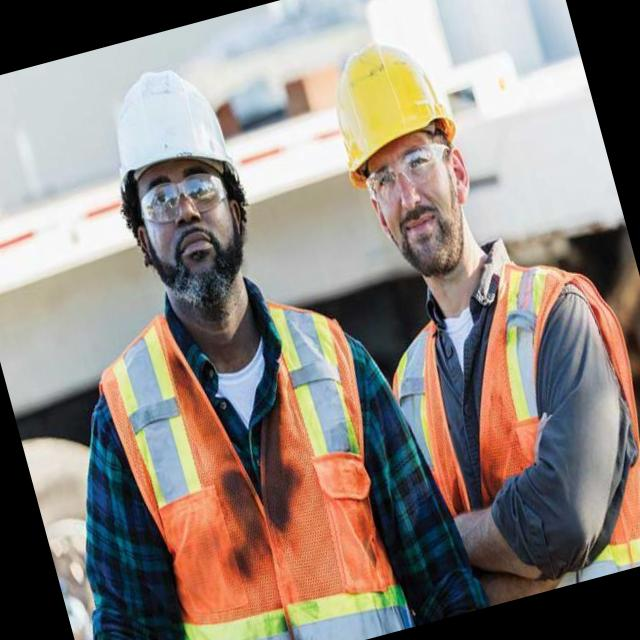hard_hat: (90, 53, 247, 217), (316, 28, 466, 194)
safety_vest: (87, 269, 424, 640), (370, 238, 640, 615)
vehicle: (0, 8, 493, 640), (292, 0, 640, 617)
